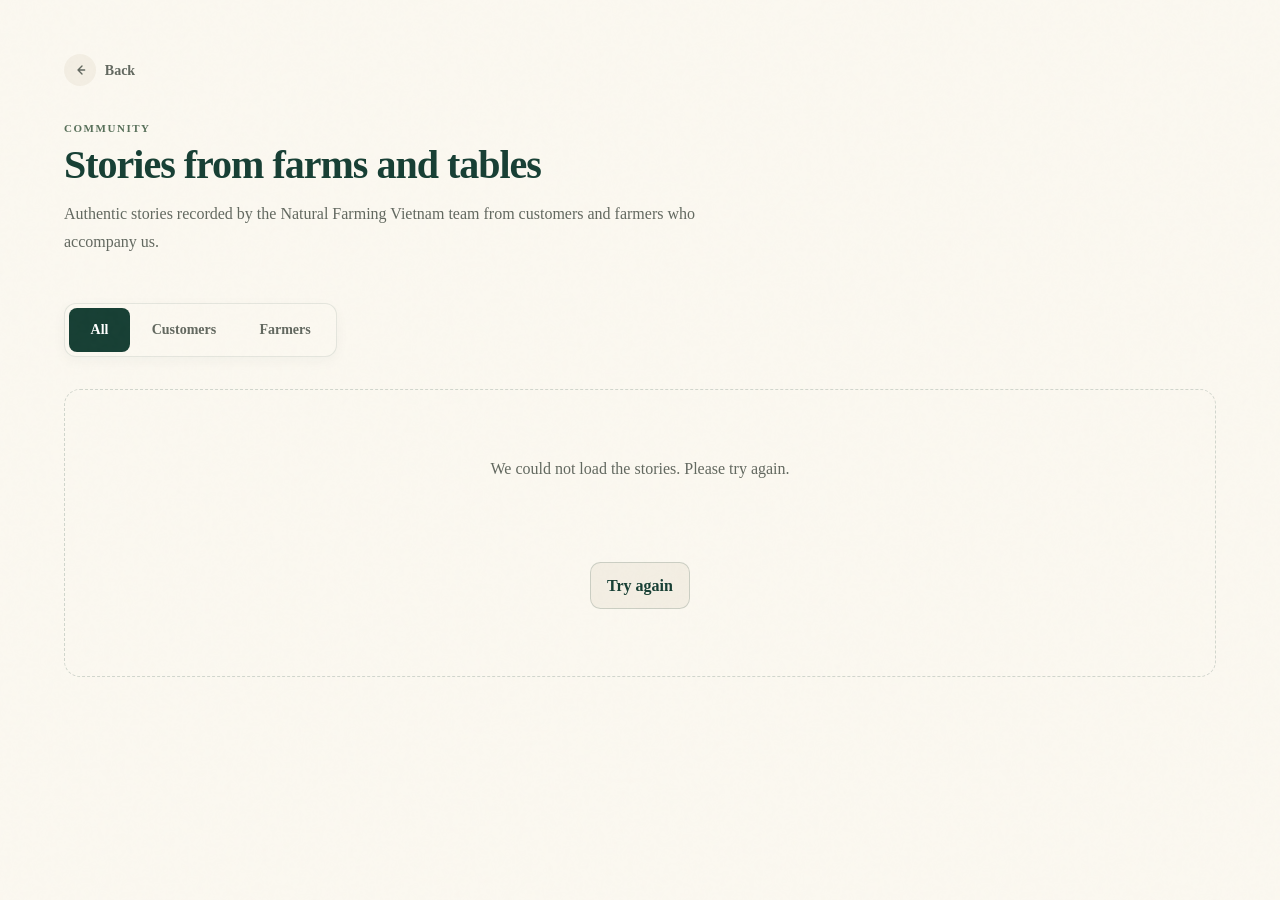
Test: Testimonials page data interactions › keeps the large error state when the initial request fails
Expected: the message reads "We could not load the stories. Please try again.", [490,460,790,477]
Click the button "Try again": x=640, y=586 [590,562,690,609]
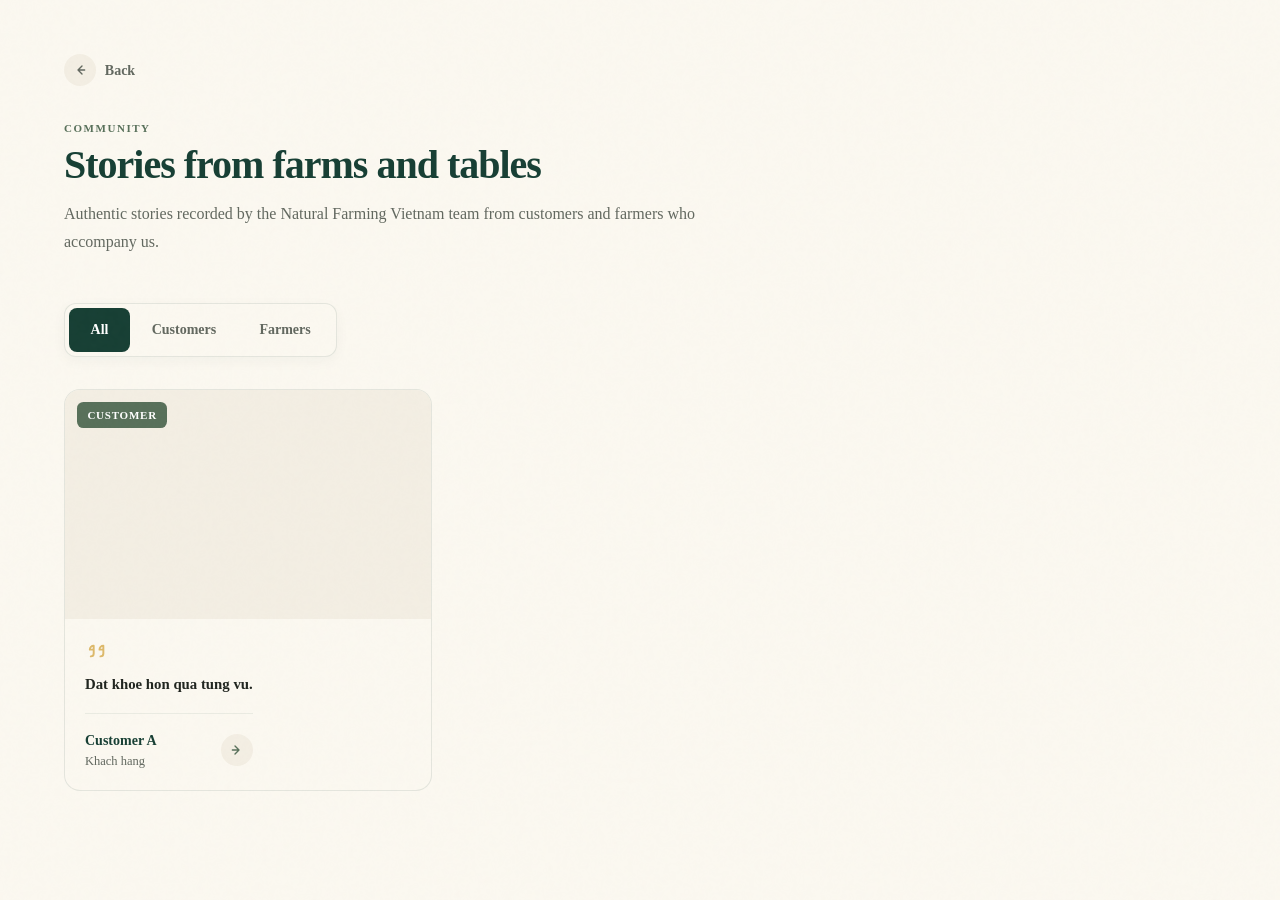
Now the text "Customer A" is shown, box [85,730,157,751]
